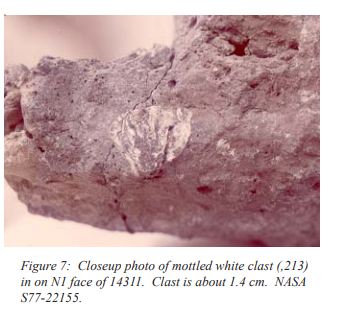Breccia: (6, 15, 318, 245)
